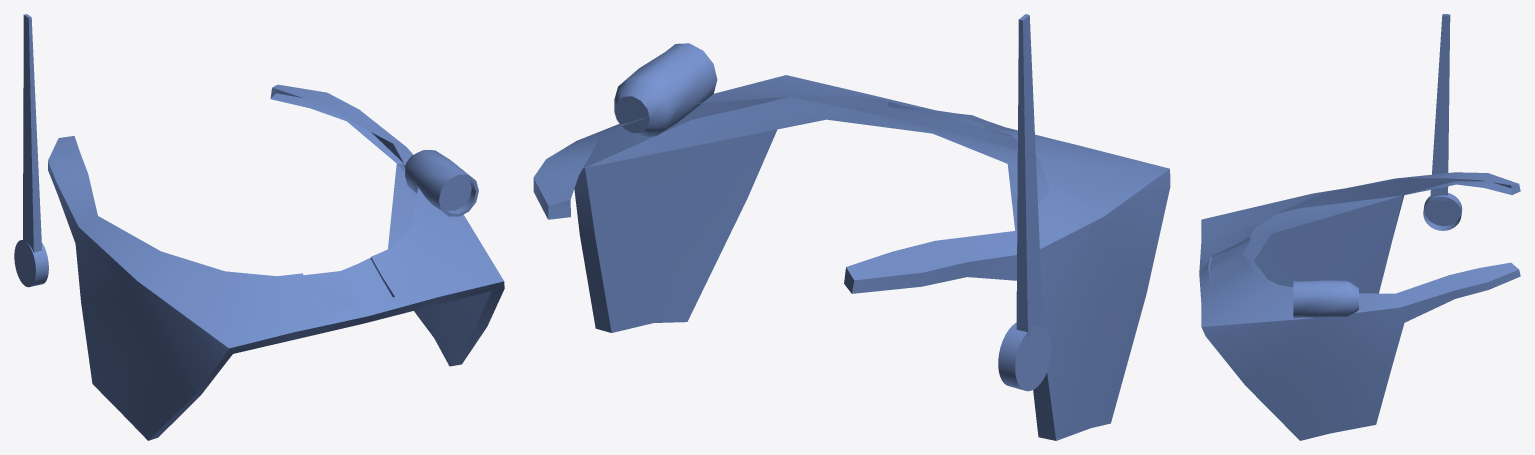
The model's file is sunvisor.obj.
3 views of the same model, side by side, from view 1: azimuth 30°, elevation 25°; view 2: azimuth 150°, elevation 25°; view 3: azimuth 270°, elevation 25° (orthographic). The views are drawn at different scales.
Visible parts, largest first — view 1: sunvisor; view 2: sunvisor; view 3: sunvisor.
Part boxes in pixels (bbox=[...]): sunvisor: bbox=[14, 14, 504, 440]; sunvisor: bbox=[533, 14, 1170, 440]; sunvisor: bbox=[1199, 14, 1520, 440].
Bounding box in the file's own units: 8.84 × 8.53 × 8.49.
